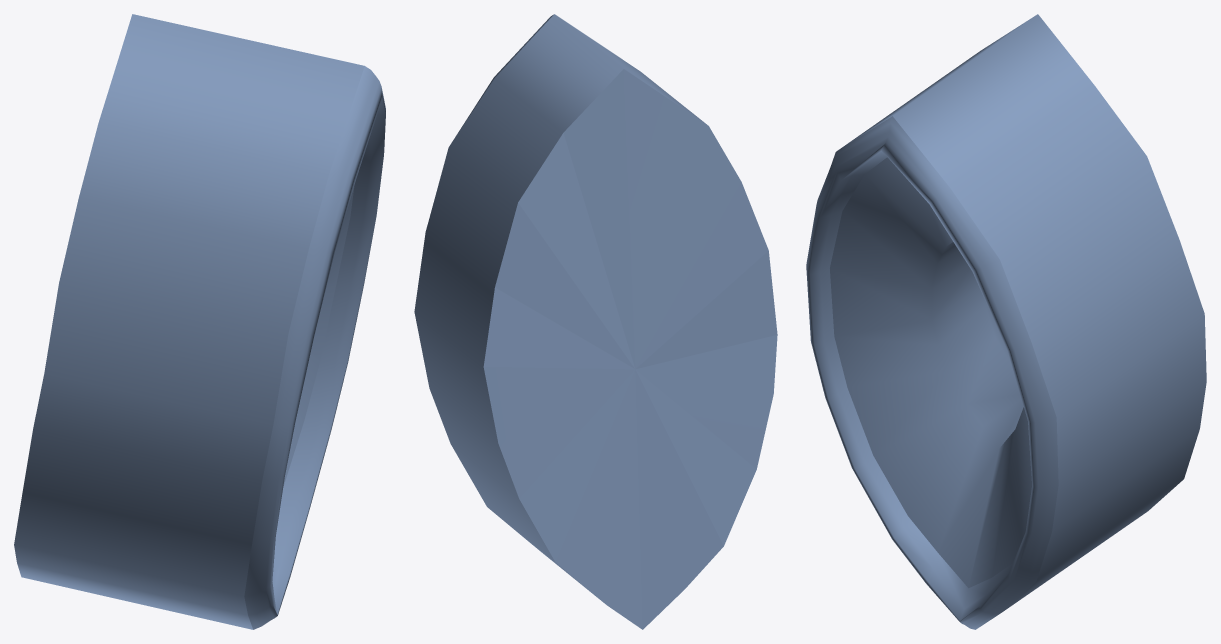
File: TR3_8shapes_Marquise_Classic_Metal.001 3.glb
3 views of the same model, side by side, from view 1: azimuth 30°, elevation 25°; view 2: azimuth 150°, elevation 25°; view 3: azimuth 270°, elevation 25° (orthographic). The views are drawn at different scales.
Parts seen in each view (by area): view 1: TR3_8shapes_Marquise_Classic_Metal.001; view 2: TR3_8shapes_Marquise_Classic_Metal.001; view 3: TR3_8shapes_Marquise_Classic_Metal.001.
Part boxes in pixels (x1,y1,x2,y2): TR3_8shapes_Marquise_Classic_Metal.001: (14,14,385,629); TR3_8shapes_Marquise_Classic_Metal.001: (414,14,777,629); TR3_8shapes_Marquise_Classic_Metal.001: (806,14,1206,629).
Size of the model in its own units: 0.4994 by 0.8039 by 0.5068.
